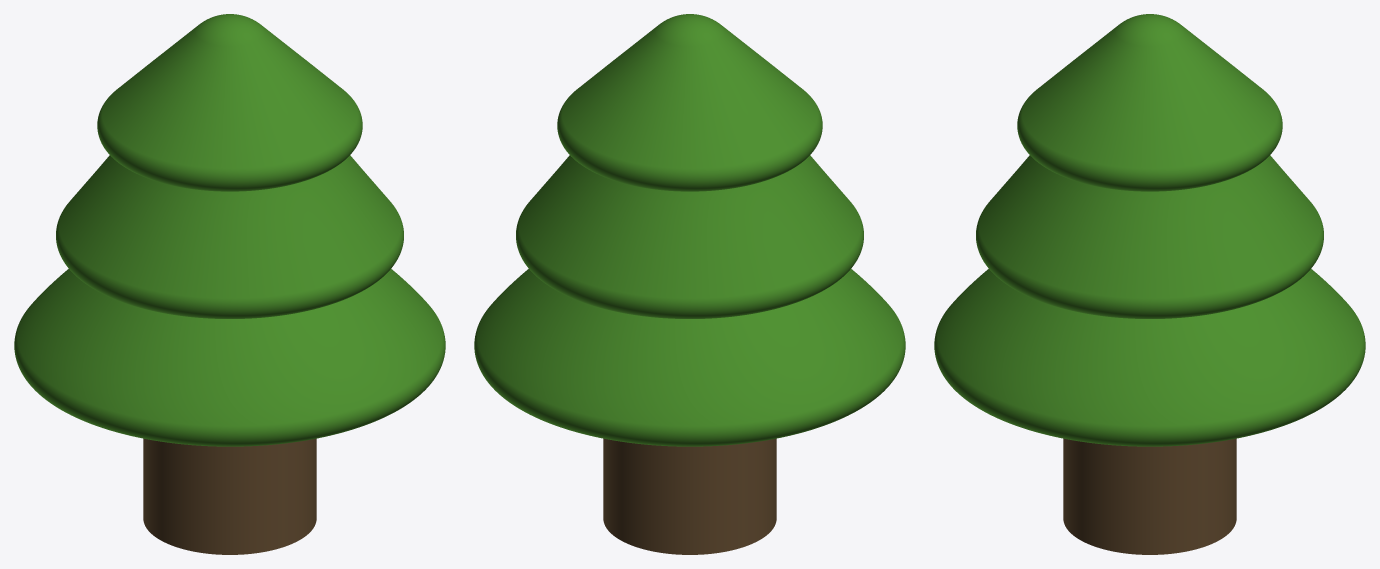
Rendered from Tree.obj.
The picture shows the model from 3 angles, left to right: view 1: azimuth 30°, elevation 25°; view 2: azimuth 150°, elevation 25°; view 3: azimuth 270°, elevation 25°; orthographic projection.
Parts seen in each view (by area): view 1: mesh2, mesh5, mesh8, mesh11, mesh1, mesh4, mesh7, mesh9; view 2: mesh2, mesh5, mesh8, mesh11, mesh1, mesh4, mesh7, mesh9; view 3: mesh2, mesh5, mesh8, mesh11, mesh1, mesh4, mesh7, mesh9.
Boxes of the visible parts, left/top/right/bottom form: mesh2: left=17, top=269, right=442, bottom=425; mesh5: left=59, top=155, right=400, bottom=298; mesh8: left=102, top=26, right=357, bottom=168; mesh11: left=143, top=438, right=316, bottom=554; mesh1: left=14, top=315, right=445, bottom=446; mesh4: left=56, top=208, right=403, bottom=318; mesh7: left=97, top=96, right=362, bottom=191; mesh9: left=195, top=14, right=264, bottom=45; mesh2: left=477, top=269, right=902, bottom=425; mesh5: left=519, top=155, right=860, bottom=298; mesh8: left=562, top=26, right=817, bottom=168; mesh11: left=603, top=438, right=776, bottom=554; mesh1: left=474, top=314, right=905, bottom=446; mesh4: left=516, top=208, right=863, bottom=318; mesh7: left=557, top=95, right=822, bottom=191; mesh9: left=655, top=14, right=724, bottom=45; mesh2: left=937, top=269, right=1362, bottom=425; mesh5: left=979, top=155, right=1320, bottom=298; mesh8: left=1022, top=26, right=1277, bottom=168; mesh11: left=1063, top=438, right=1236, bottom=554; mesh1: left=934, top=315, right=1365, bottom=446; mesh4: left=976, top=208, right=1323, bottom=318; mesh7: left=1017, top=95, right=1282, bottom=191; mesh9: left=1115, top=14, right=1184, bottom=45.
Bounding box in the file's own units: 0.158 × 0.2019 × 0.158.
